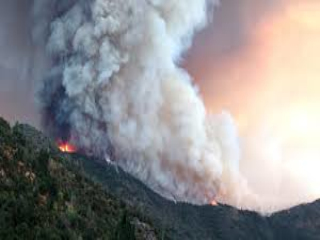fire: (53, 144, 85, 159)
smoke: (45, 8, 201, 140)
